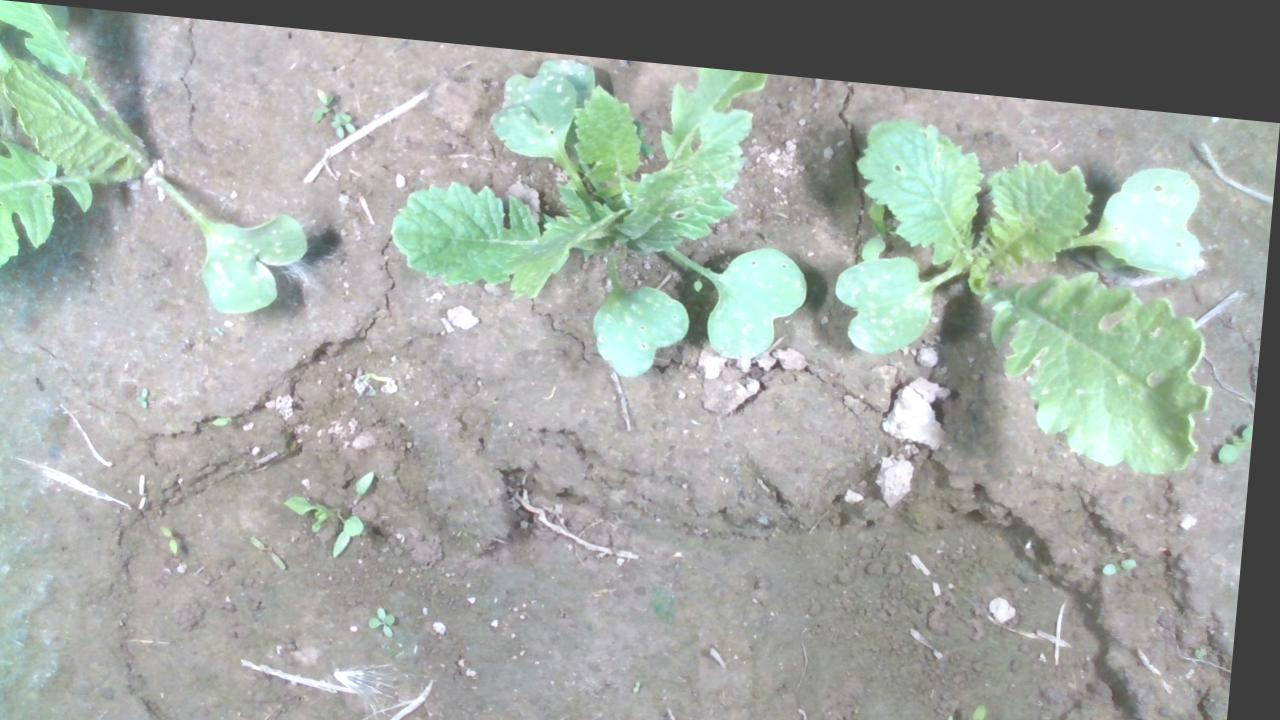weed: (255, 528, 298, 563), (971, 678, 998, 719), (377, 595, 408, 629), (1107, 530, 1145, 554), (168, 521, 189, 552), (142, 382, 156, 405), (217, 407, 240, 421)
